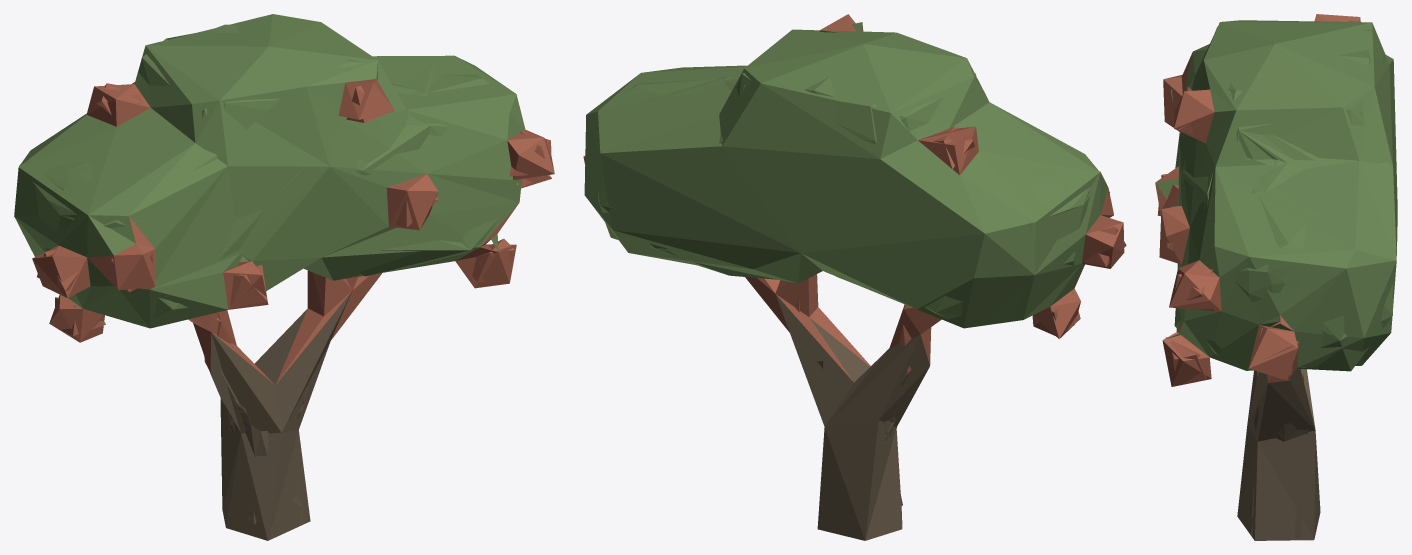
Rendered from ENV_09_APPLE_game.glb.
The picture shows the model from 3 angles, left to right: view 1: azimuth 30°, elevation 25°; view 2: azimuth 150°, elevation 25°; view 3: azimuth 270°, elevation 25°; orthographic projection.
Parts seen in each view (by area): view 1: ENV_09_APPLE; view 2: ENV_09_APPLE; view 3: ENV_09_APPLE.
Boxes of the visible parts, left/top/right/bottom form: ENV_09_APPLE: left=14, top=14, right=554, bottom=540; ENV_09_APPLE: left=583, top=14, right=1126, bottom=540; ENV_09_APPLE: left=1155, top=14, right=1397, bottom=540.
Bounding box in the file's own units: 4.73 × 4.2 × 1.91.
